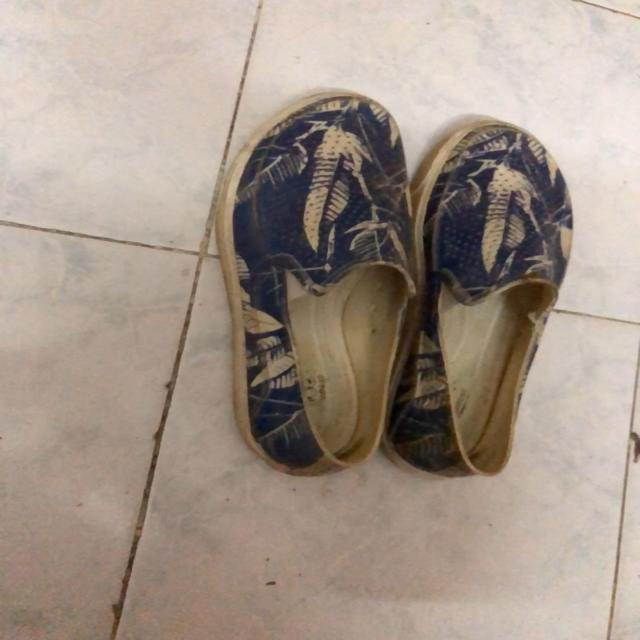shoe: (223, 91, 414, 478), (387, 116, 575, 479)
